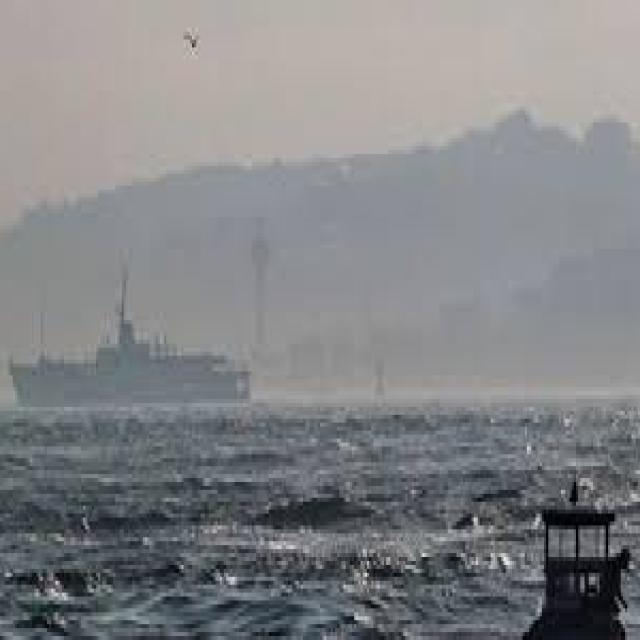navalvessels: (6, 262, 254, 400)
